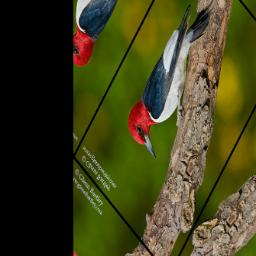Woodpecker: (121, 0, 235, 171)
